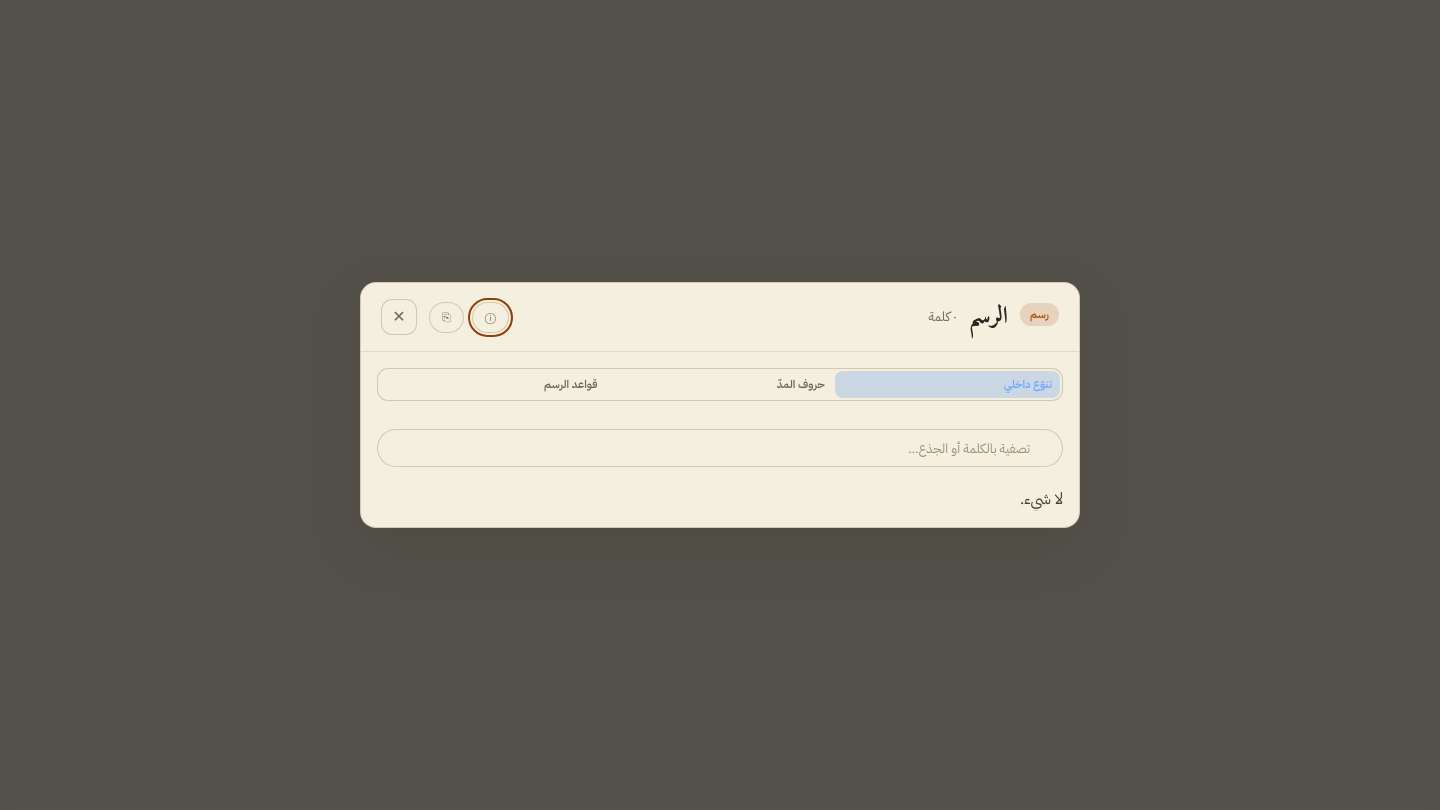
it: RasmLabModal › drills the long-vowel tab: device cards → a device's forms → a form profile (no loop)
Click the tab "حروف المدّ": (720, 384) left=607, top=371, right=833, bottom=398
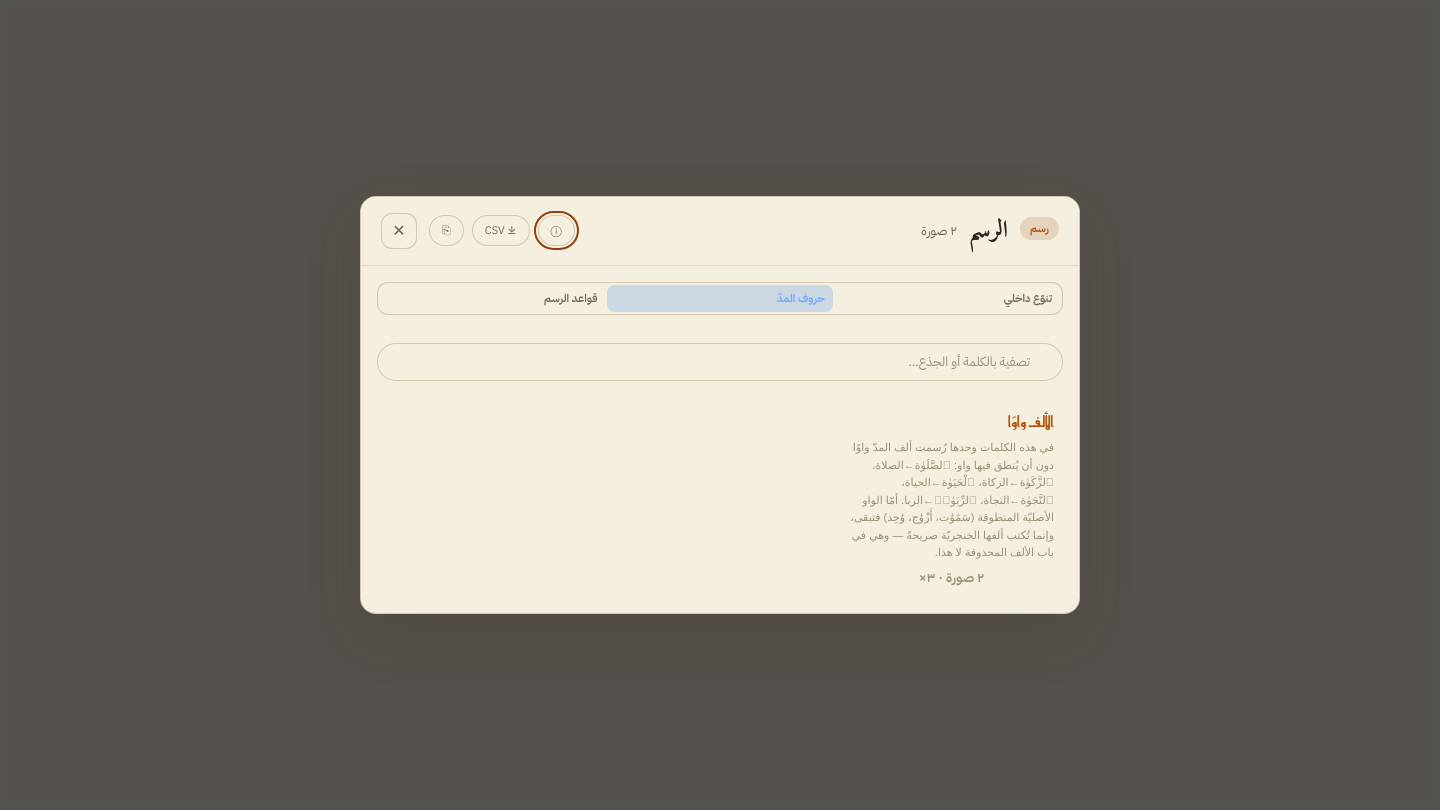
Expected: the button with class "ag-modal-row" is shown
Click the button with class "ag-modal-row": (951, 499) left=840, top=401, right=1063, bottom=597
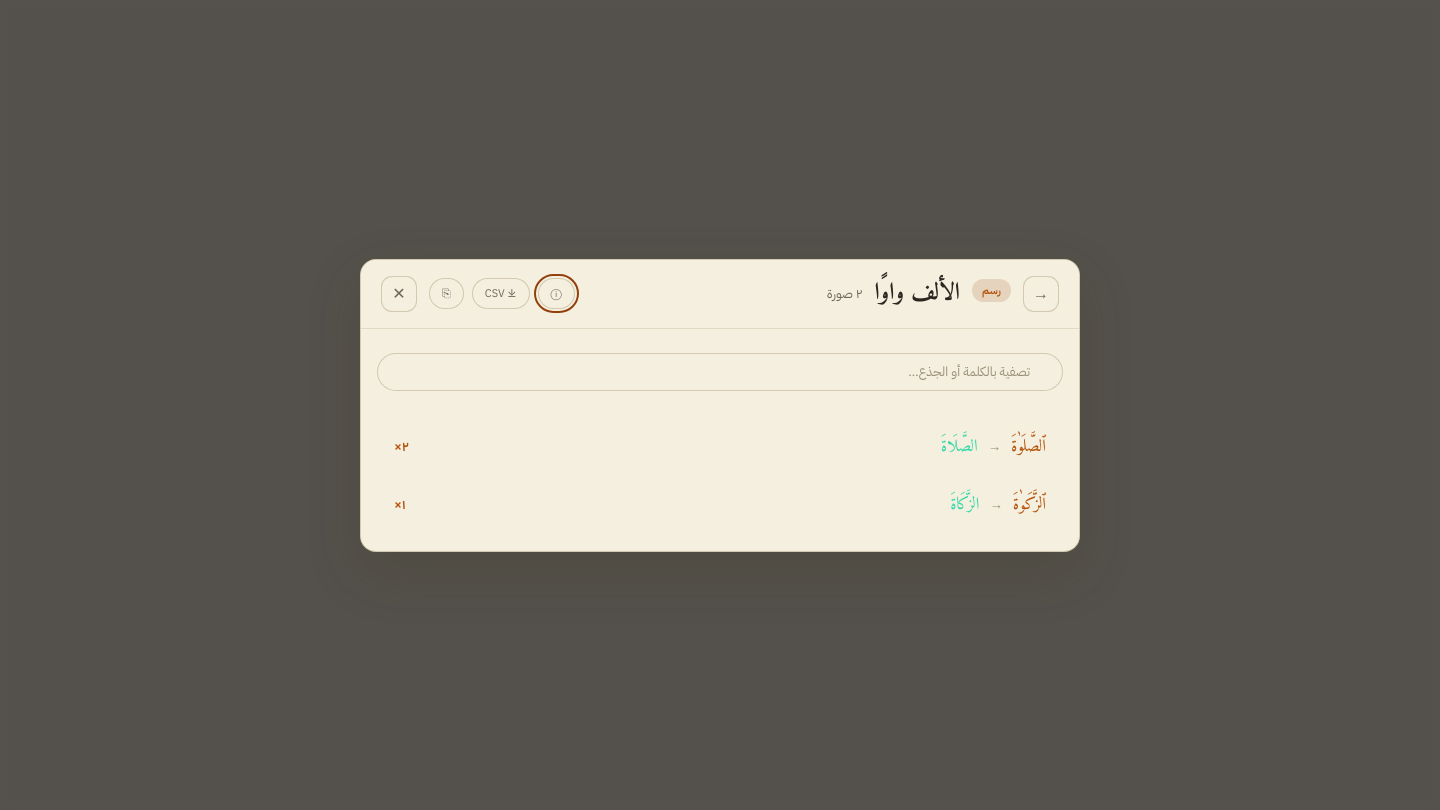
Expected: the list with class "ag-canon-rules" is gone
Expected: the button with class "ag-modal-row" showing "ٱلصَّلَوٰةَ → الصَّلَاةَ ٢×" is shown
Click the button with class "ag-modal-row" showing "ٱلصَّلَوٰةَ → الصَّلَاةَ ٢×": (1029, 446) left=377, top=418, right=1063, bottom=474
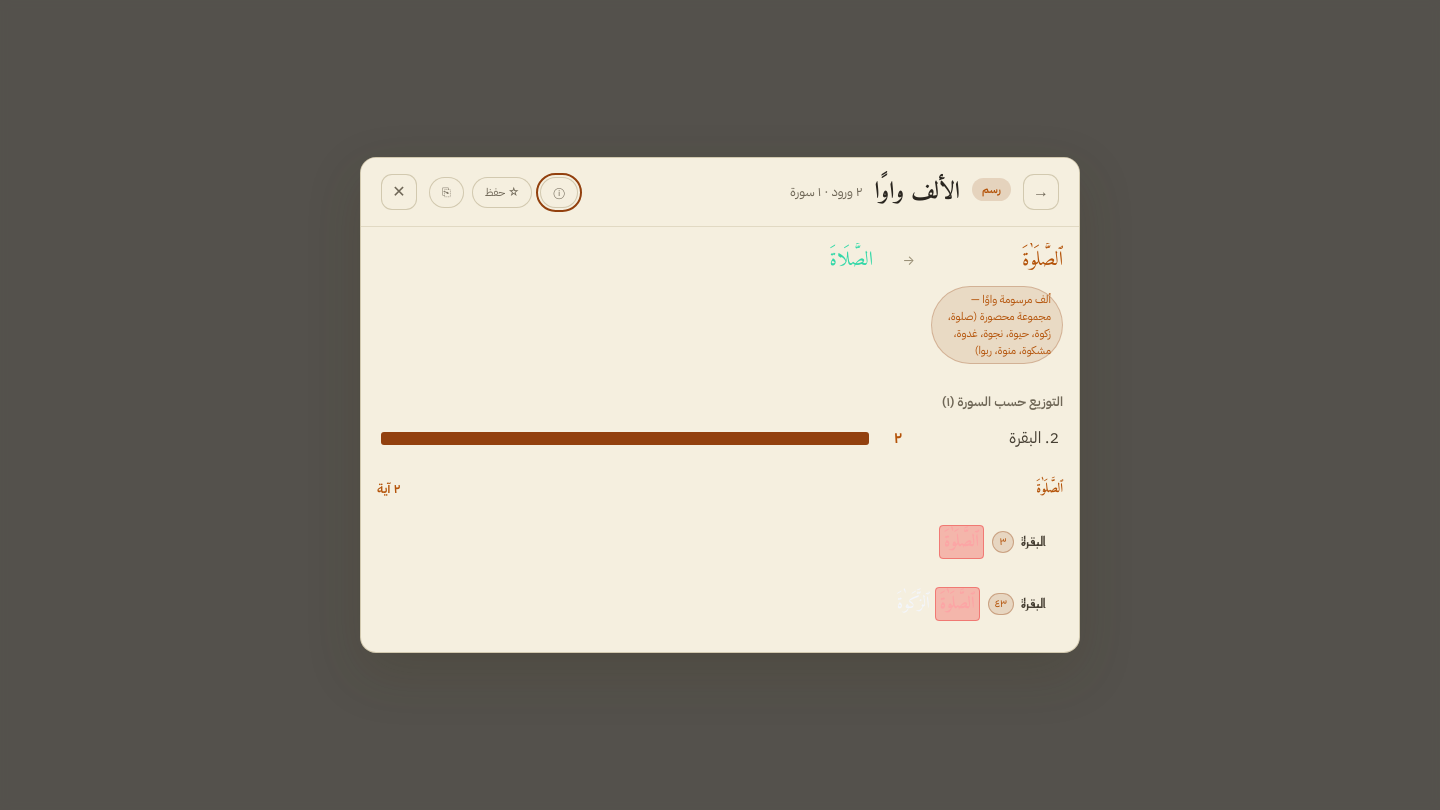
Expected: the 1st element with class "ag-dist-bars" is shown, left=830, top=243, right=1063, bottom=364
